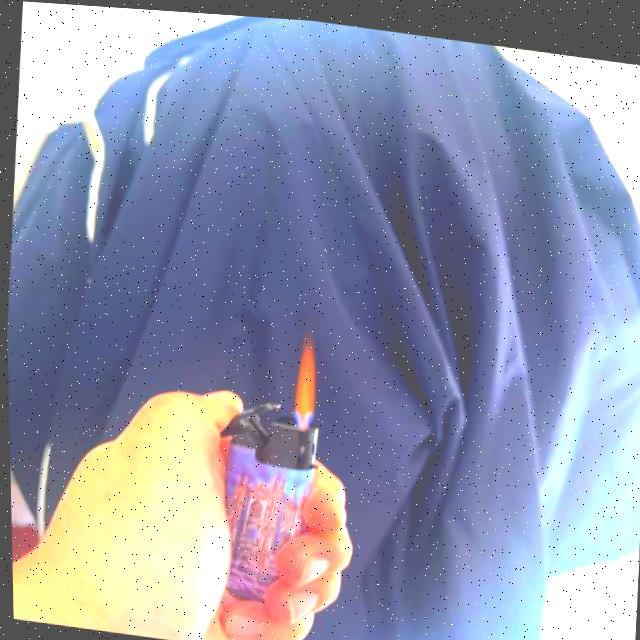Fire: (289, 331, 318, 424)
